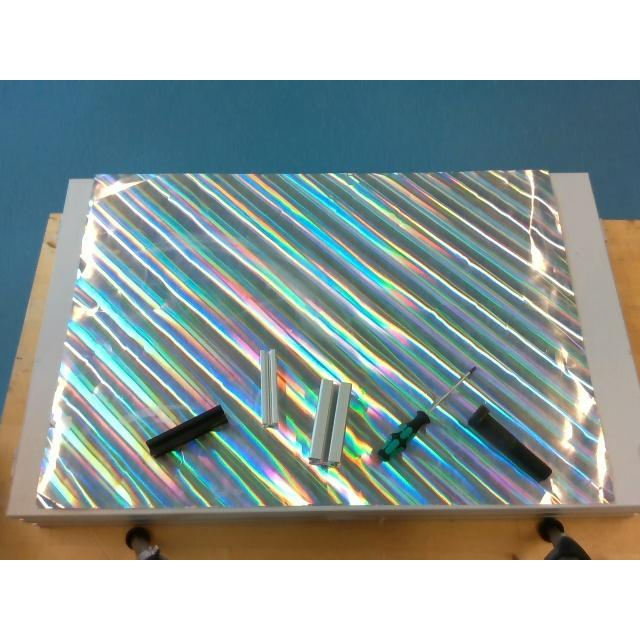F20_20_B: (146, 405, 228, 457)
F20_20_G: (260, 349, 278, 427)
M20_100: (468, 405, 552, 485)
S40_40_G: (309, 378, 351, 466)
Screwdriver: (372, 365, 476, 461)
